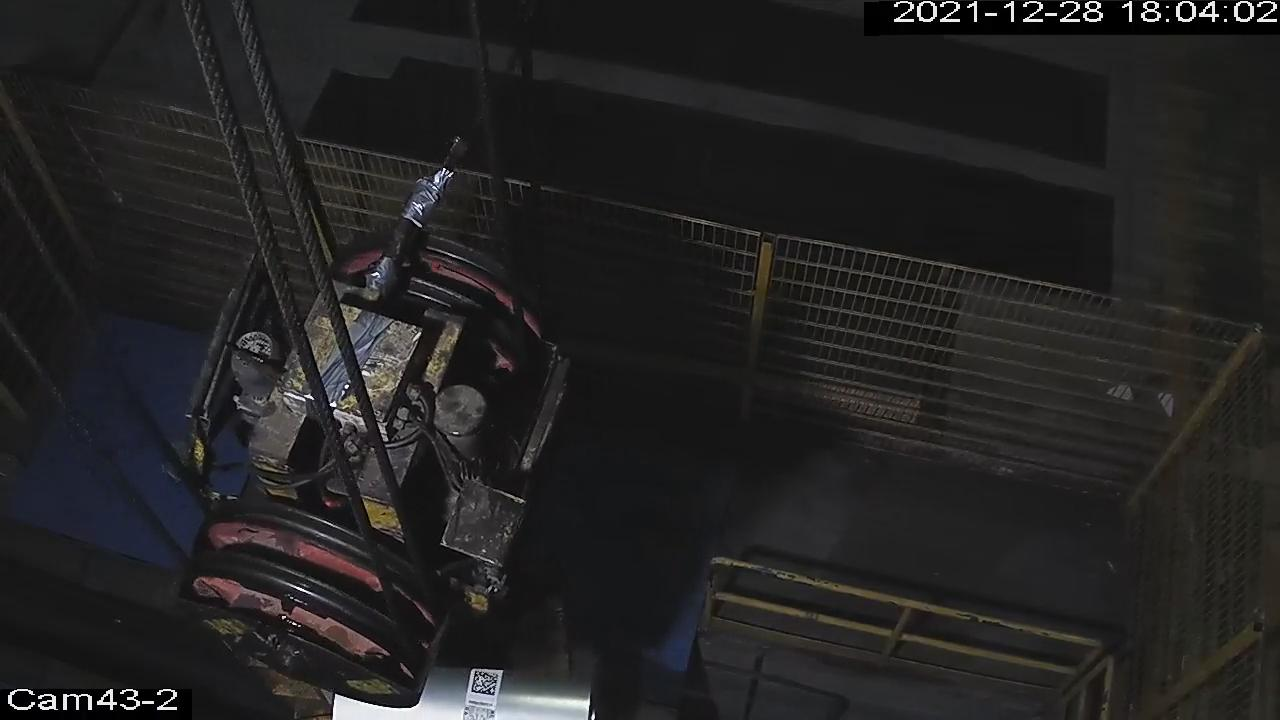data matrix: (470, 670, 501, 698)
